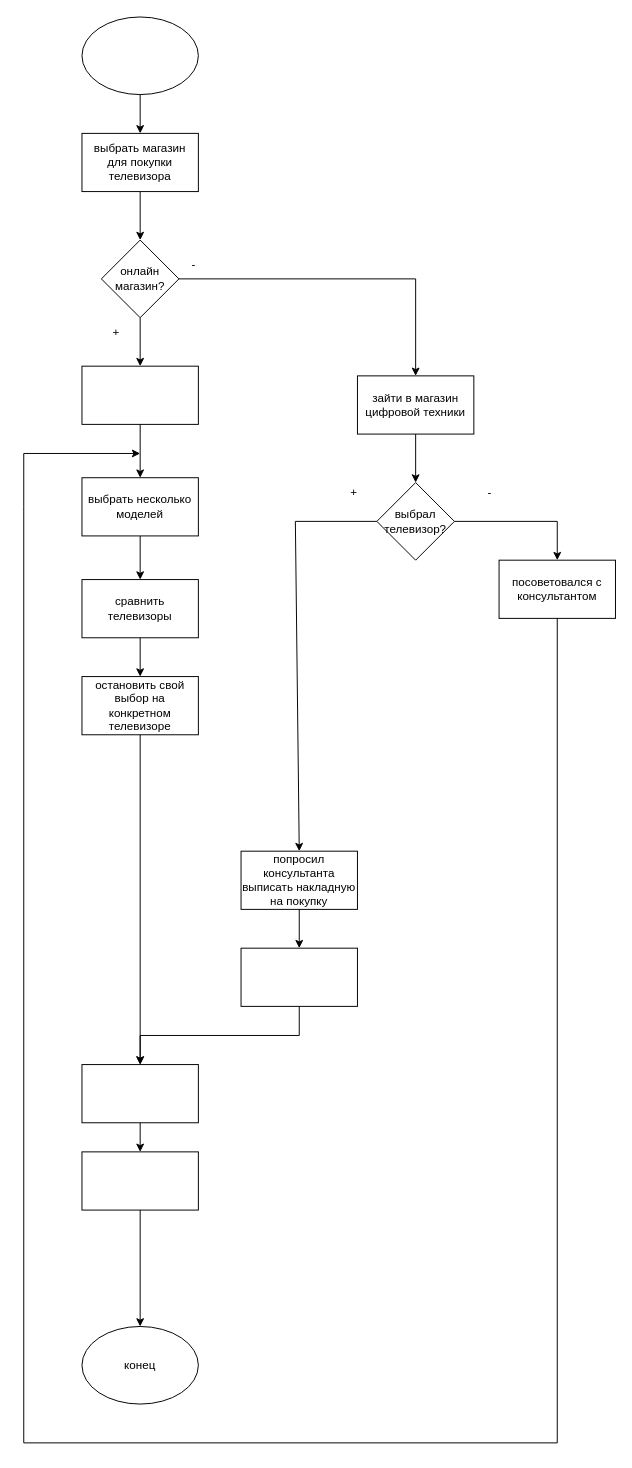
Some shapes in this 632 by 1468 pixel diagram are drawn without their labels. Here are the shapes that lost their labels. From the top down, the centre of each, then its label:
At pixel 139 55: "начало".
At pixel 139 394: "задать в фильтре параметры и модель телевизора".
At pixel 298 976: "явился на кассу".
At pixel 139 1093: "оплатил чек".
At pixel 139 1180: "ждать доставку".
